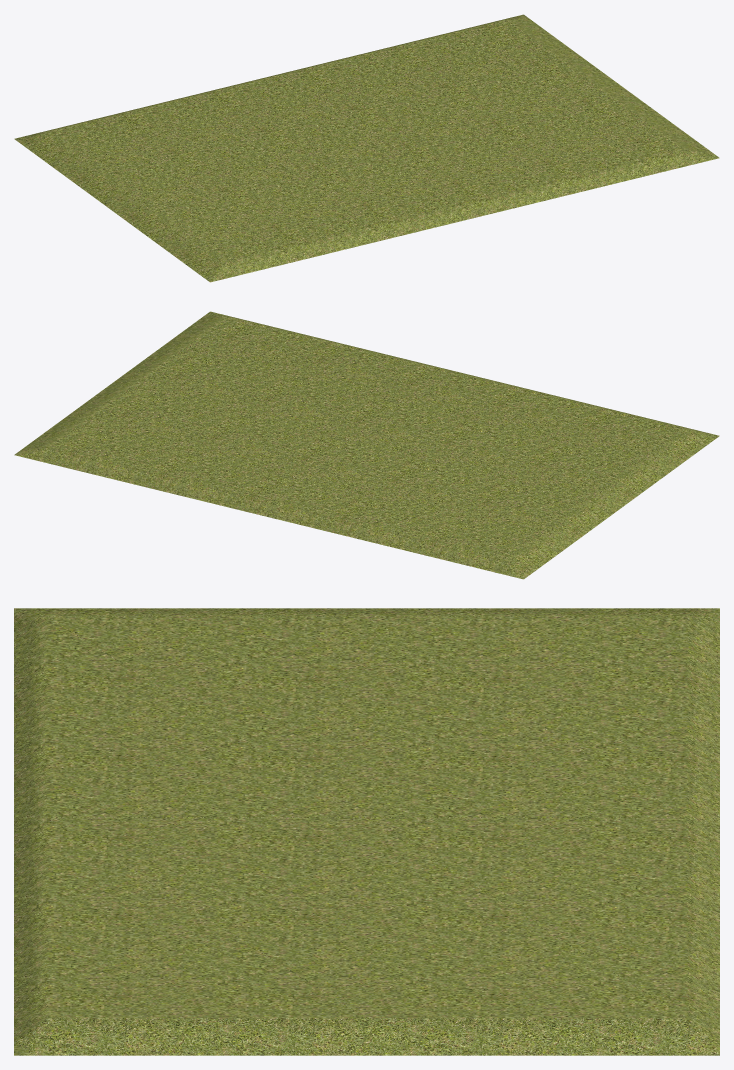
File: Grass.fbx
3 views of the same model, one above another, from view 1: azimuth 30°, elevation 25°; view 2: azimuth 150°, elevation 25°; view 3: azimuth 270°, elevation 25° (orthographic). The views are drawn at different scales.
Parts seen in each view (by area): view 1: Grass; view 2: Grass; view 3: Grass.
Boxes of the visible parts, left/top/right/bottom form: Grass: left=14, top=14, right=719, bottom=282; Grass: left=14, top=311, right=719, bottom=579; Grass: left=14, top=608, right=719, bottom=1055.
Bounding box in the file's own units: 3130 × 46.63 × 2086.
